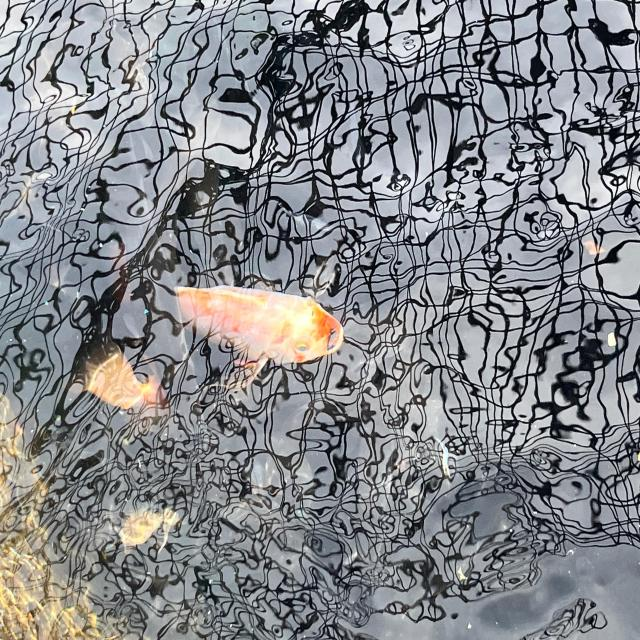ikan: (156, 271, 364, 381)
